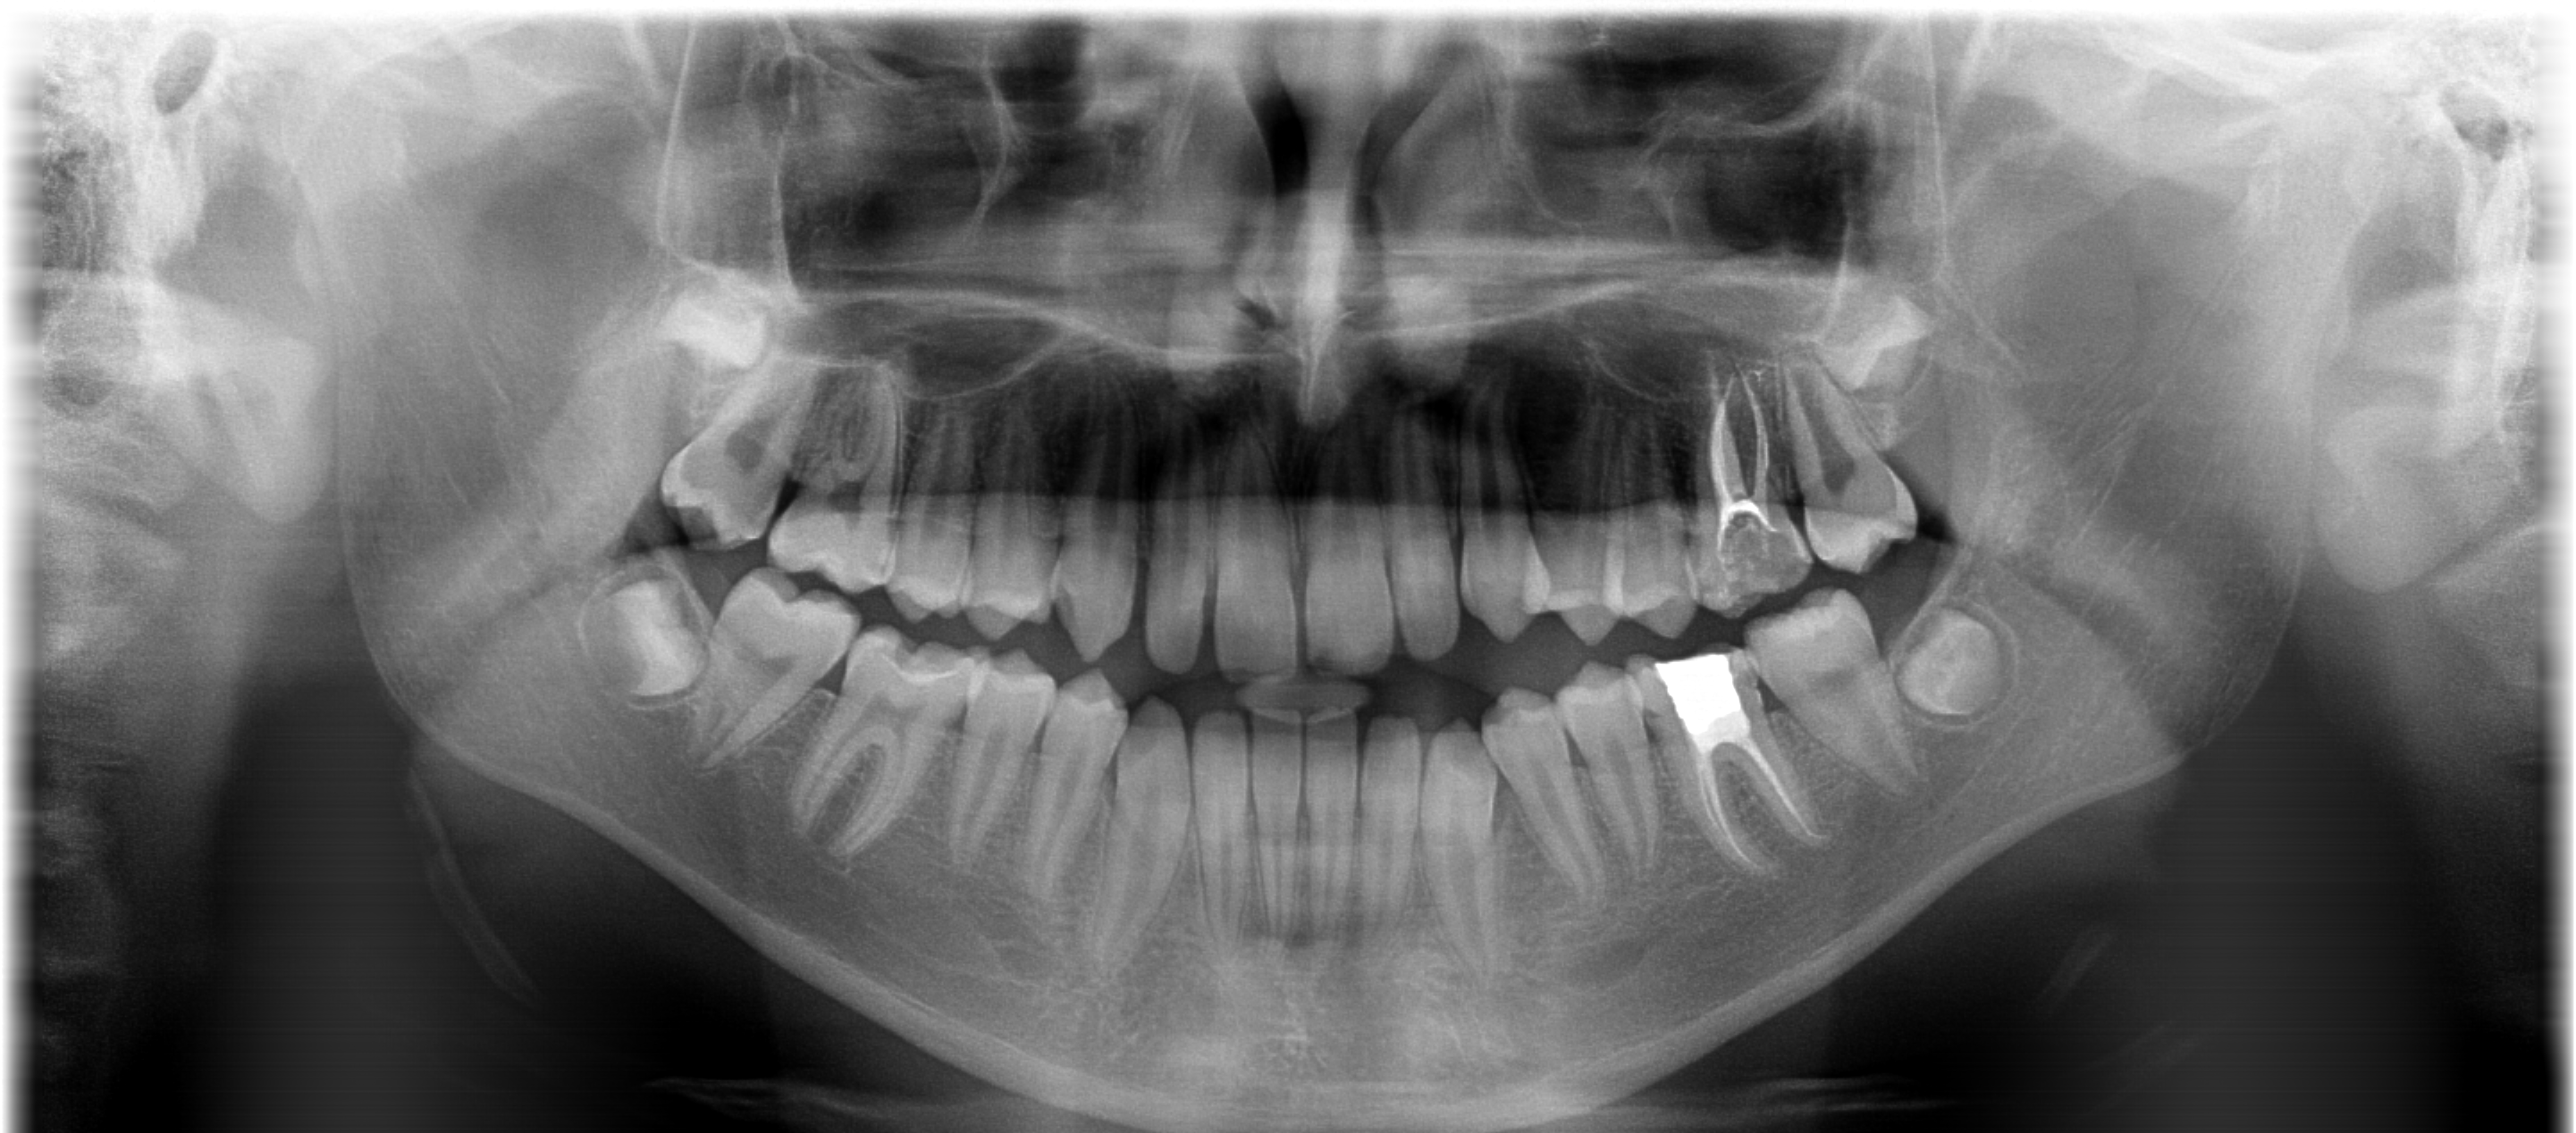cordal: (545, 532, 739, 734), (636, 250, 838, 420), (1797, 274, 1986, 442), (1879, 580, 2060, 750)
tratamiento_conducto: (1615, 629, 1843, 893), (1677, 360, 1820, 632)
